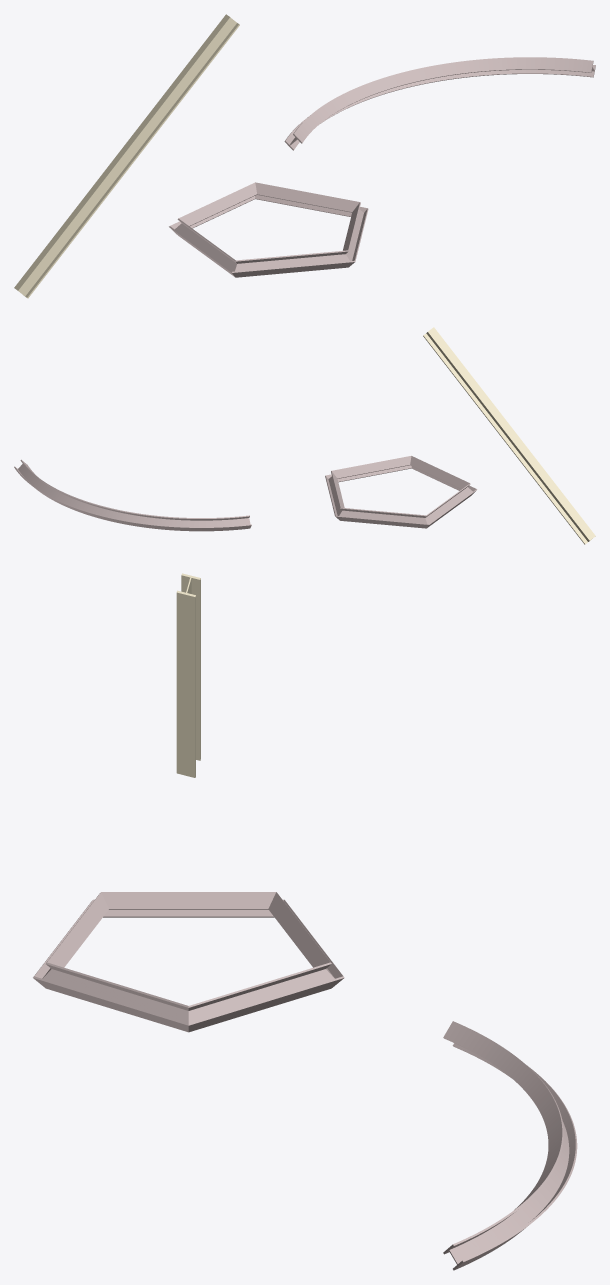
The model's file is Elements_Beam.glb.
3 views of the same model, one above another, from view 1: azimuth 30°, elevation 25°; view 2: azimuth 150°, elevation 25°; view 3: azimuth 270°, elevation 25° (orthographic). The views are drawn at different scales.
Visible parts, largest first — view 1: 20436cb8-c950-4fec-9d1e-69eb365ec840_mesh, 9bd34700-fb0e-4890-9f7f-c0a13df673c5_mesh, 5e3846a2-7d65-4744-8718-10fe9e6a89f1_mesh; view 2: 20436cb8-c950-4fec-9d1e-69eb365ec840_mesh, 9bd34700-fb0e-4890-9f7f-c0a13df673c5_mesh, 5e3846a2-7d65-4744-8718-10fe9e6a89f1_mesh; view 3: 20436cb8-c950-4fec-9d1e-69eb365ec840_mesh, 5e3846a2-7d65-4744-8718-10fe9e6a89f1_mesh, 9bd34700-fb0e-4890-9f7f-c0a13df673c5_mesh.
Part boxes in pixels (x1=…): 20436cb8-c950-4fec-9d1e-69eb365ec840_mesh: x1=169, y1=182, x2=368, y2=277; 9bd34700-fb0e-4890-9f7f-c0a13df673c5_mesh: x1=14, y1=14, x2=239, y2=298; 5e3846a2-7d65-4744-8718-10fe9e6a89f1_mesh: x1=284, y1=57, x2=595, y2=150; 20436cb8-c950-4fec-9d1e-69eb365ec840_mesh: x1=325, y1=455, x2=477, y2=528; 9bd34700-fb0e-4890-9f7f-c0a13df673c5_mesh: x1=423, y1=327, x2=595, y2=544; 5e3846a2-7d65-4744-8718-10fe9e6a89f1_mesh: x1=14, y1=459, x2=251, y2=531; 20436cb8-c950-4fec-9d1e-69eb365ec840_mesh: x1=33, y1=892, x2=344, y2=1032; 5e3846a2-7d65-4744-8718-10fe9e6a89f1_mesh: x1=443, y1=1021, x2=577, y2=1270; 9bd34700-fb0e-4890-9f7f-c0a13df673c5_mesh: x1=176, y1=573, x2=200, y2=777.
Size of the model in its own units: 15.79 by 5.31 by 7.28.
